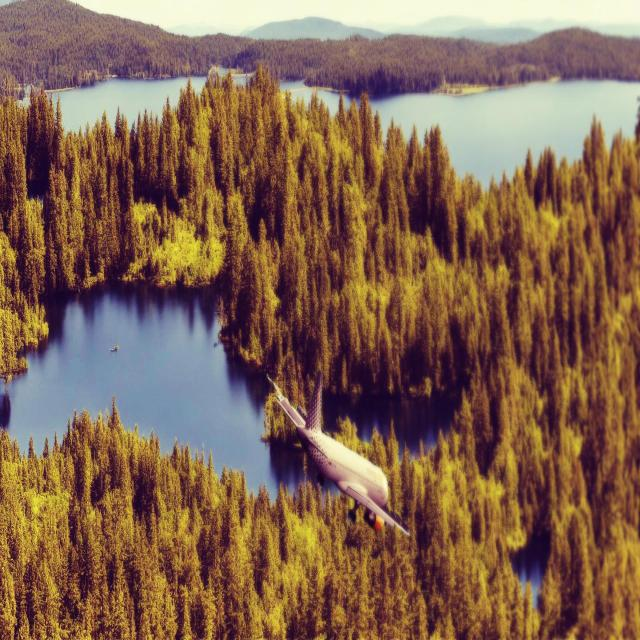airplane: (266, 369, 411, 538)
